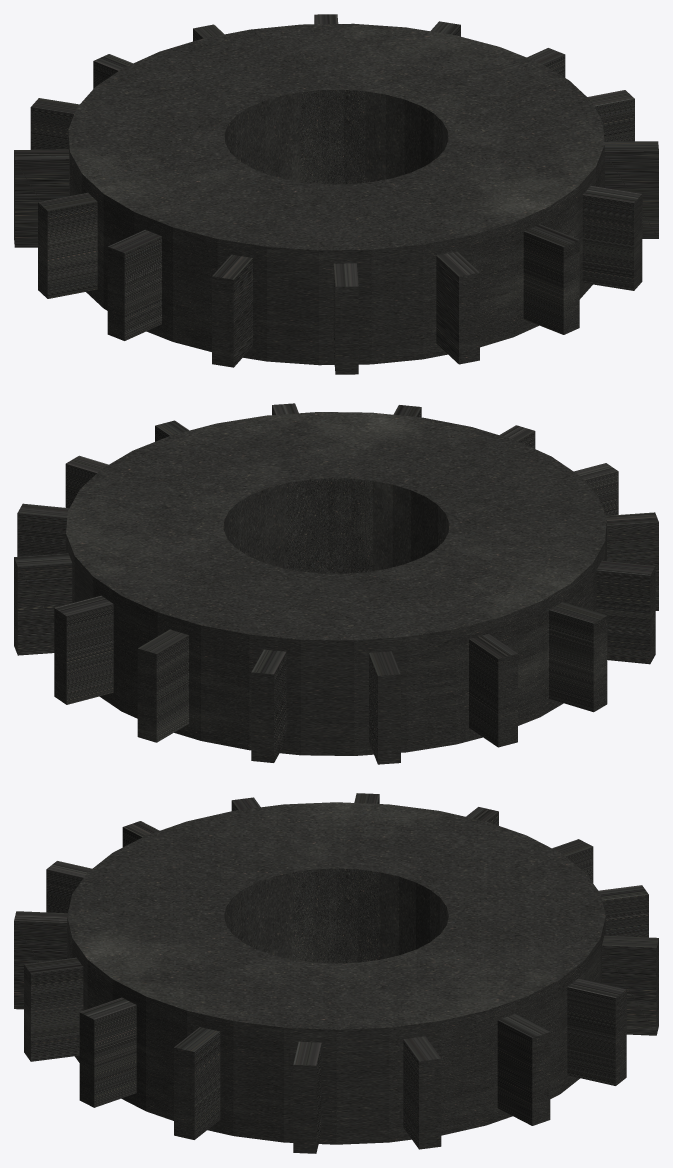
The model's file is Gear_Tree_gear_small.glb.
3 views of the same model, one above another, from view 1: azimuth 30°, elevation 25°; view 2: azimuth 150°, elevation 25°; view 3: azimuth 270°, elevation 25° (orthographic).
Visible parts, largest first — view 1: Cylinder.009; view 2: Cylinder.009; view 3: Cylinder.009.
Part boxes in pixels (<box>): Cylinder.009: <box>14,14,658,374</box>; Cylinder.009: <box>14,403,658,764</box>; Cylinder.009: <box>14,793,658,1153</box>.
Size of the model in its own units: 1.46 by 0.2864 by 1.46.
1 material, 1 textured.
